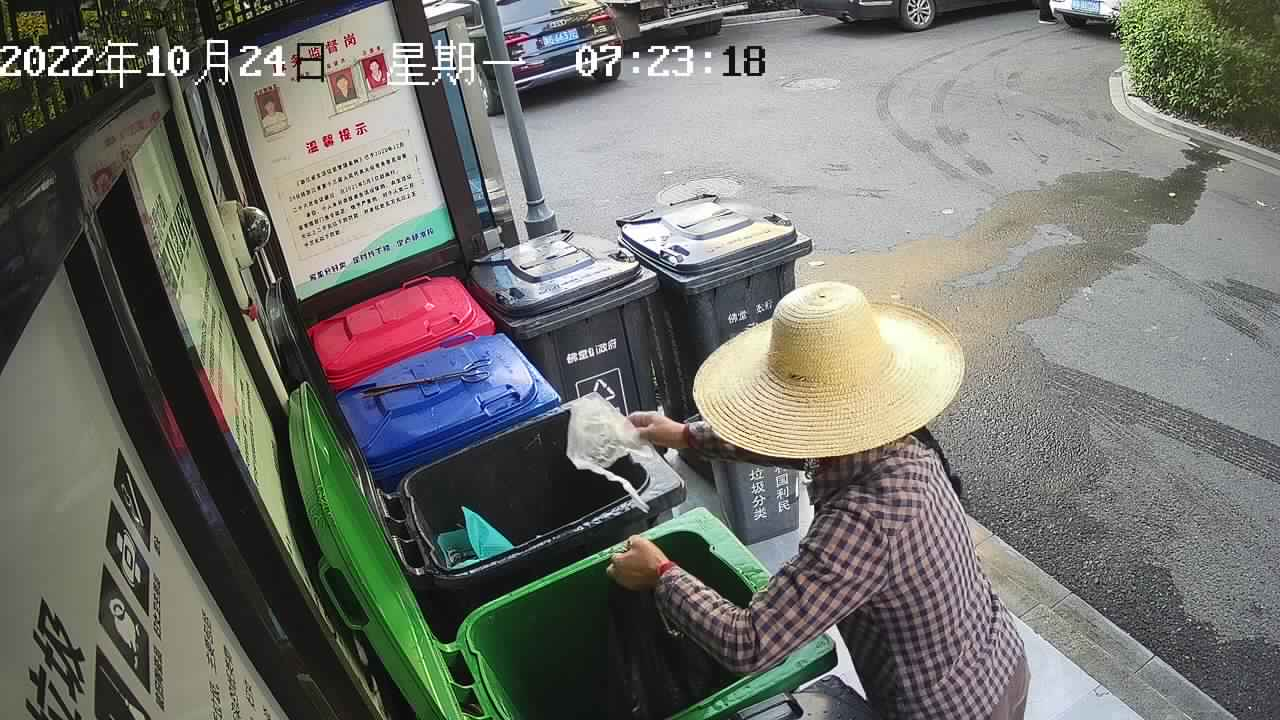person: (594, 273, 1037, 720)
